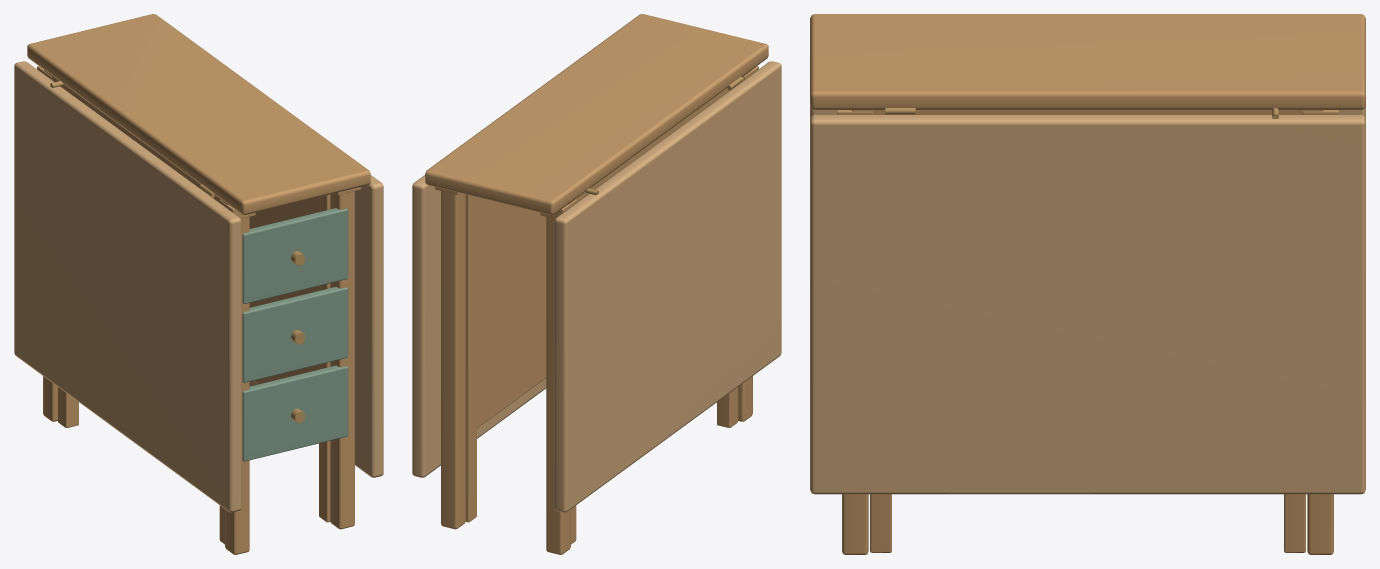
Rendered from gateleg-table-closed.glb.
3 views of the same model, side by side, from view 1: azimuth 30°, elevation 25°; view 2: azimuth 150°, elevation 25°; view 3: azimuth 270°, elevation 25° (orthographic). The views are drawn at different scales.
Parts seen in each view (by area): view 1: catalog_surface_RealismUV; view 2: catalog_surface_RealismUV; view 3: catalog_surface_RealismUV.
Boxes of the visible parts, <box> form: catalog_surface_RealismUV: <box>14,14,383,554</box>; catalog_surface_RealismUV: <box>412,14,781,554</box>; catalog_surface_RealismUV: <box>810,14,1365,554</box>.
Size of the model in its own units: 0.33 by 0.74 by 0.8.
